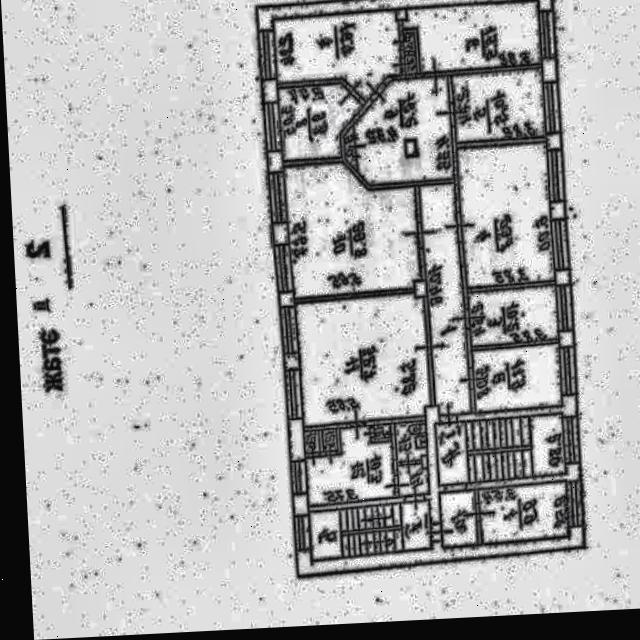room: (273, 0, 540, 102), (282, 155, 420, 296), (293, 292, 430, 423), (456, 139, 553, 287), (339, 77, 452, 183), (418, 183, 467, 414), (433, 413, 561, 481), (300, 421, 392, 501), (451, 68, 543, 140), (307, 501, 428, 554), (278, 80, 360, 155), (469, 345, 560, 412), (475, 481, 567, 541), (467, 286, 557, 345), (437, 490, 475, 545), (391, 418, 424, 459), (395, 461, 425, 493)
